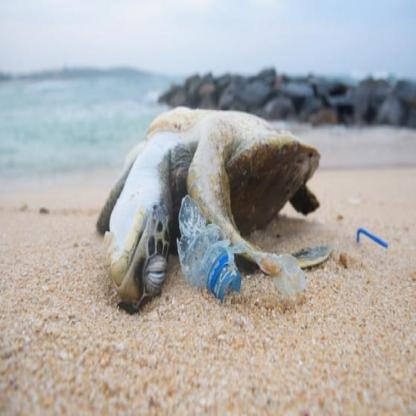Plastic: (174, 197, 248, 303)
